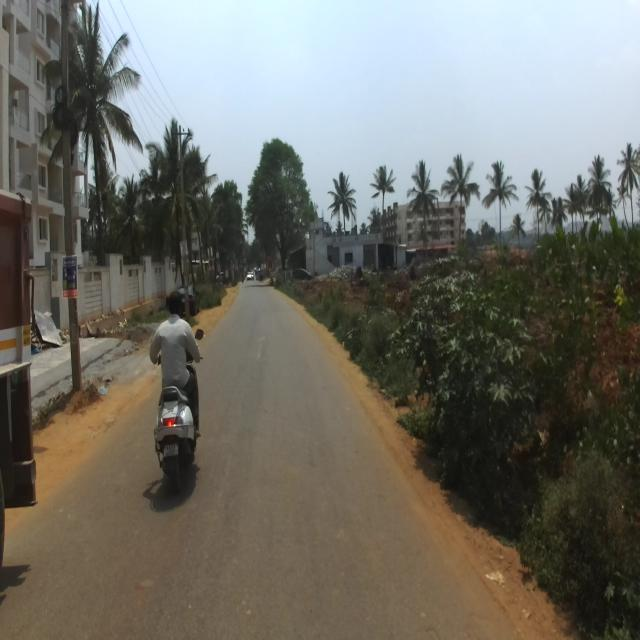electric pole ahead at: (47, 0, 101, 416)
motorcycle ahead at: (147, 378, 202, 495)
